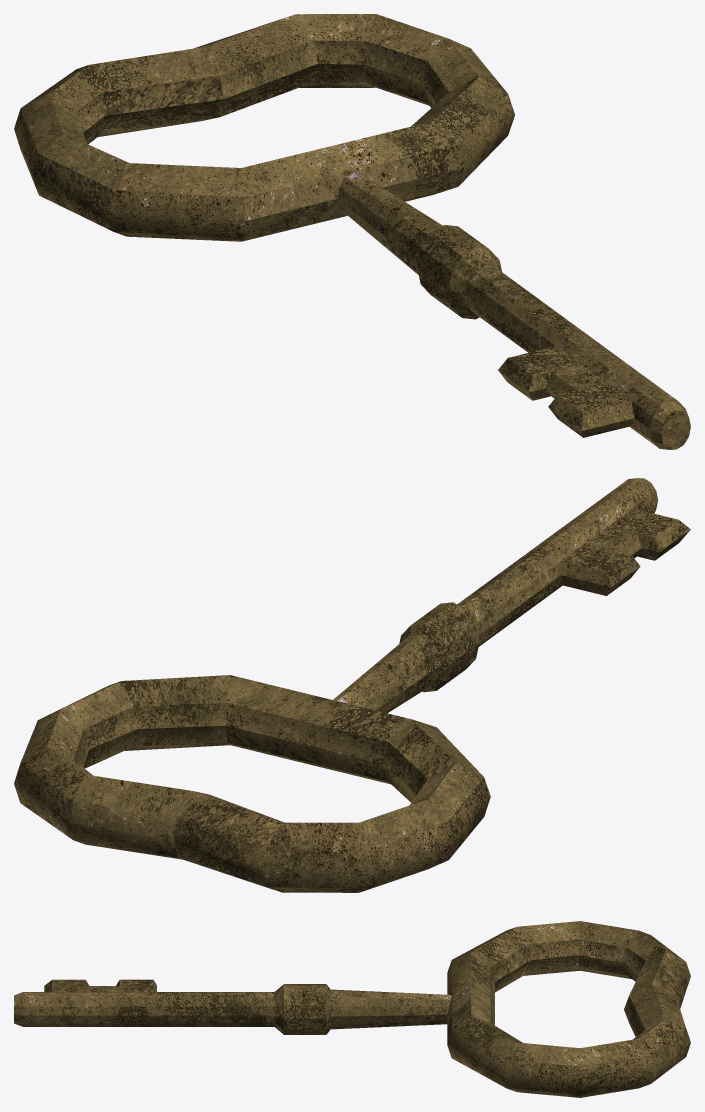
The model's file is key6.fbx.
3 views of the same model, one above another, from view 1: azimuth 30°, elevation 25°; view 2: azimuth 150°, elevation 25°; view 3: azimuth 270°, elevation 25° (orthographic). The views are drawn at different scales.
Parts seen in each view (by area): view 1: Key6; view 2: Key6; view 3: Key6.
Boxes of the visible parts, box(x1,y1,x2,y2) form: Key6: box(14, 14, 690, 449); Key6: box(14, 478, 690, 892); Key6: box(14, 921, 690, 1097).
Size of the model in its own units: 160 by 25.65 by 314.
